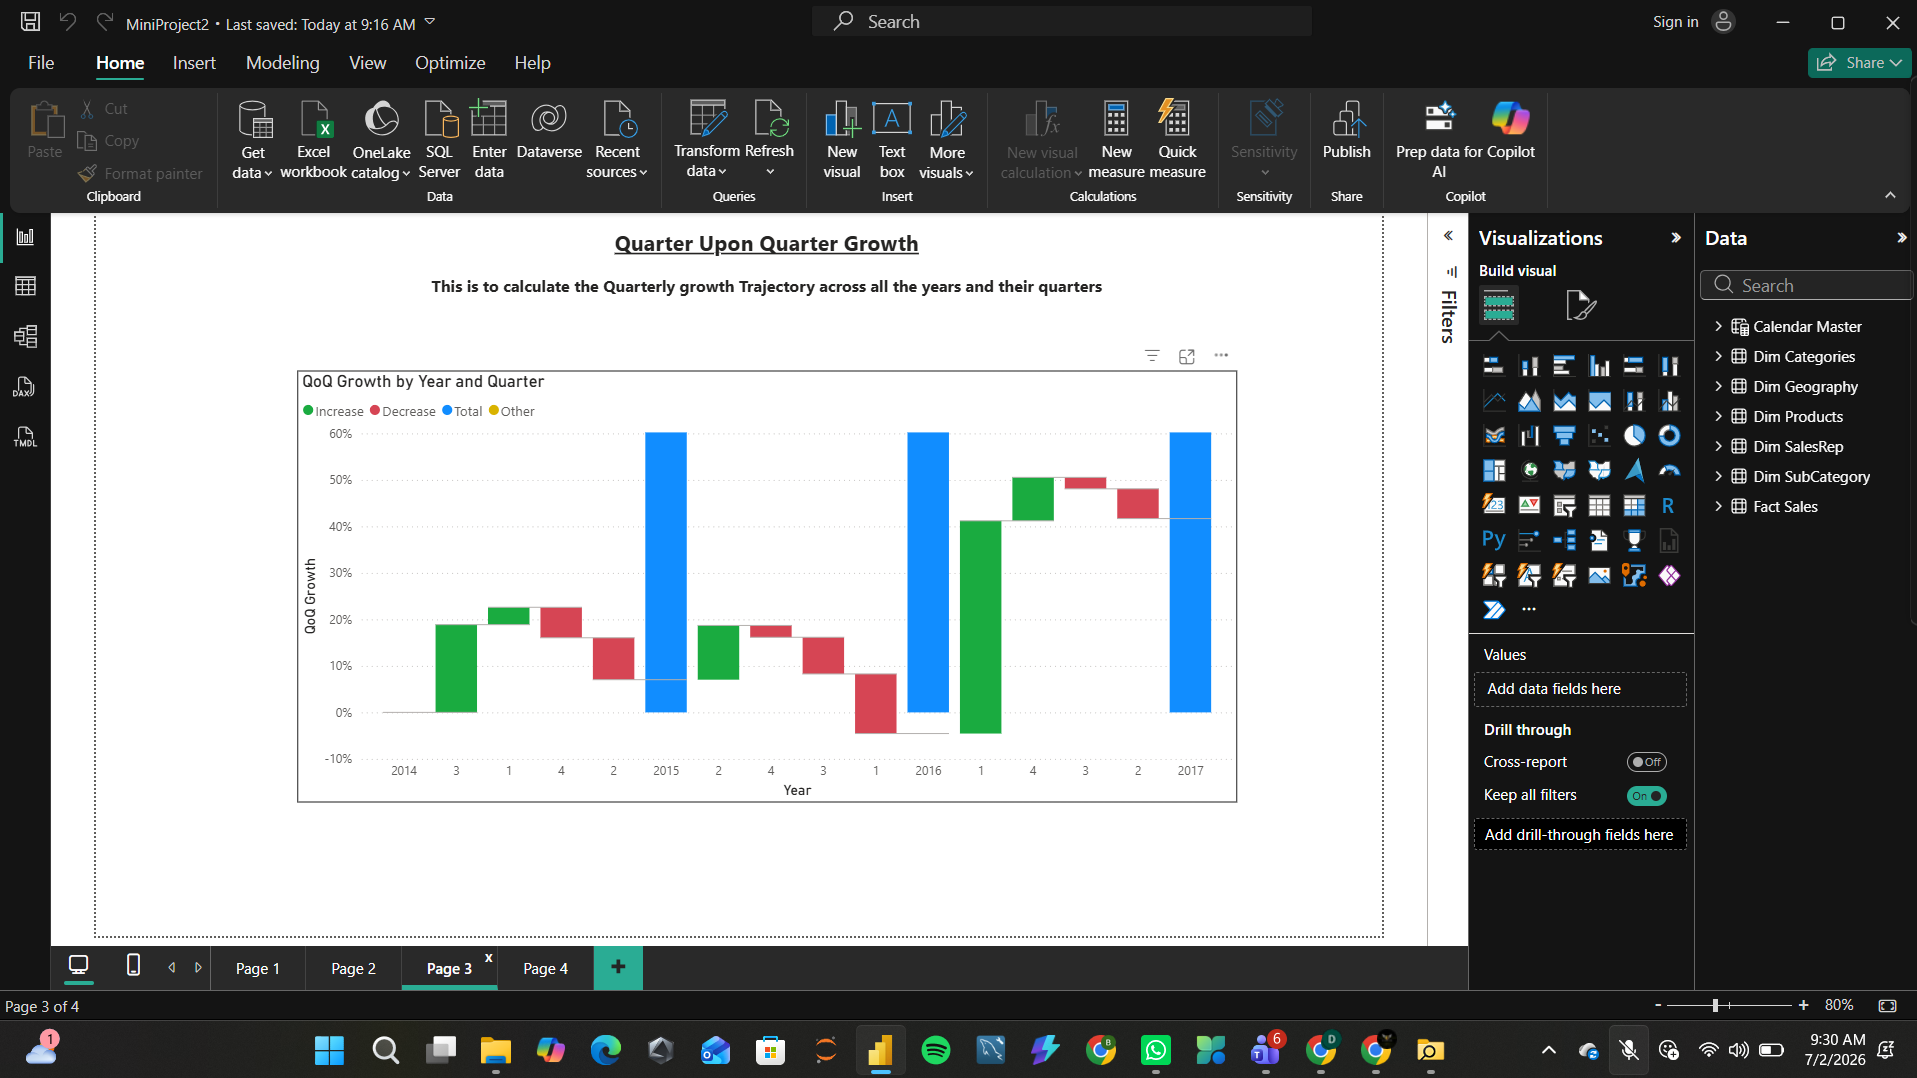

Layout of this report page (visuals, bound fields, positions):
{"tool":"powerbi","page":{"name":"Page 3","canvas":[1280,720],"ordinal":2},"visuals":[{"type":"textbox","box":[322.1,10.5,690.7,82.6],"z":0},{"type":"waterfallChart","fields":{"Category":["Calendar Master.Year"],"Breakdown":["Calendar Master.Quarter"],"Y":["Fact Sales.QoQ Growth"]},"box":[200,157,936,430.2],"z":1000}]}

Visuals, with their boxes on the page's 1280x720 design canvas (x1, y1, x2, y2). These are canvas units, not pixel positions in the 1917x1078 screenshot, which may show the page scaled, cropped or inside an application window:
textbox: select_region(322, 10, 1013, 93)
waterfallChart - Calendar Master.Year x Calendar Master.Quarter: select_region(200, 157, 1136, 587)
